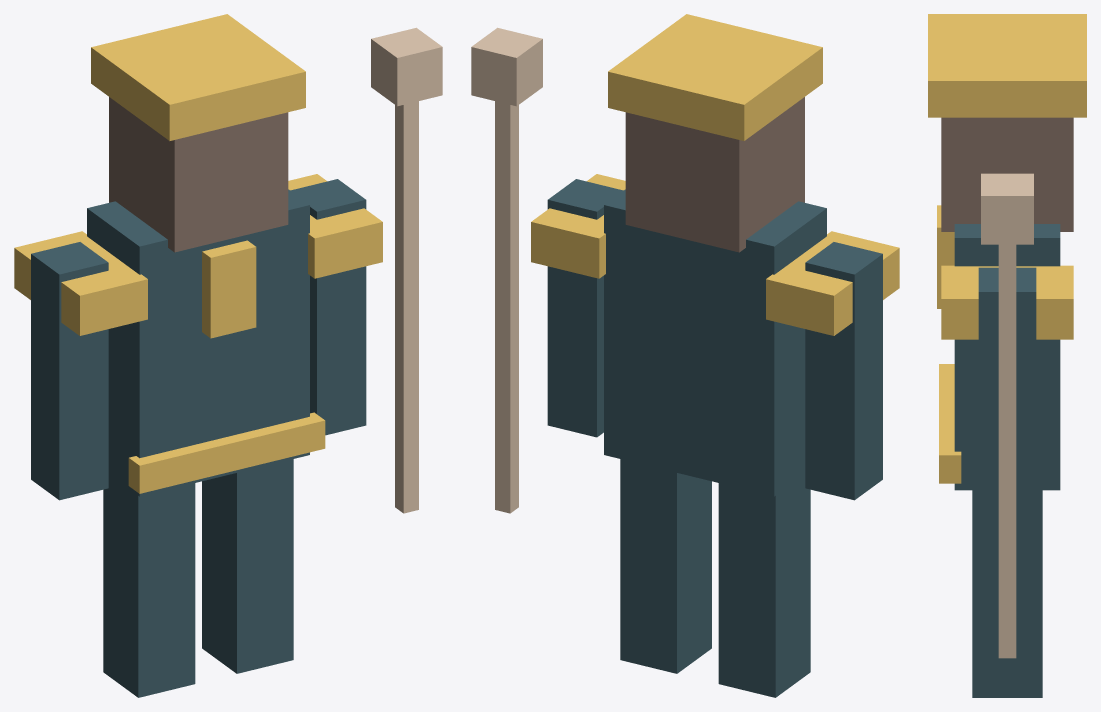
Rendered from 09_auren_dubwater_archivist_of_research.glb.
3 renders of one model, left to right at view 1: azimuth 30°, elevation 25°; view 2: azimuth 150°, elevation 25°; view 3: azimuth 270°, elevation 25°, orthographic.
Parts seen in each view (by area): view 1: Auren Dubwater, Archivist of Research; view 2: Auren Dubwater, Archivist of Research; view 3: Auren Dubwater, Archivist of Research.
Boxes of the visible parts, <box> form: Auren Dubwater, Archivist of Research: <box>14,14,442,697</box>; Auren Dubwater, Archivist of Research: <box>471,14,899,697</box>; Auren Dubwater, Archivist of Research: <box>928,14,1086,697</box>.
Bounding box in the file's own units: 0.9514 × 1.43 × 0.3374.
